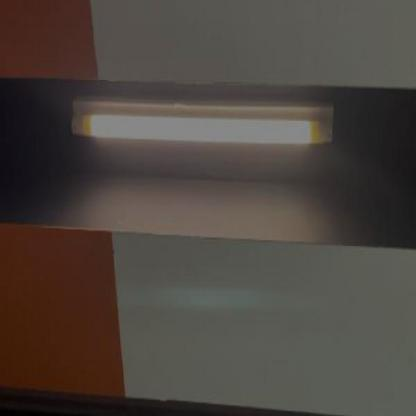light_on: (66, 76, 340, 168)
